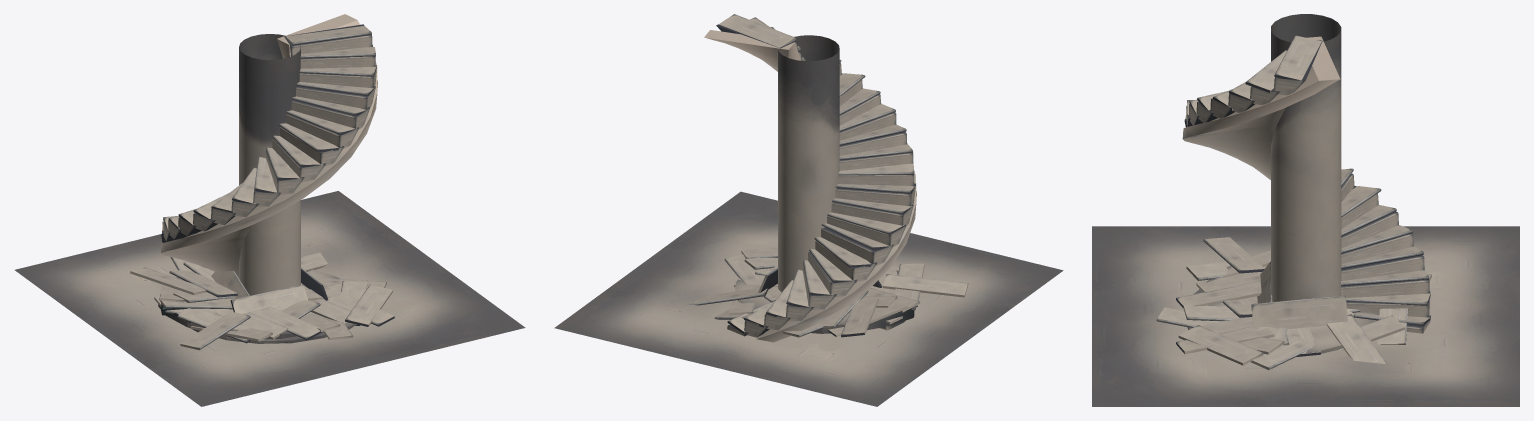
File: exitbottom.fbx
3 views of the same model, side by side, from view 1: azimuth 30°, elevation 25°; view 2: azimuth 150°, elevation 25°; view 3: azimuth 270°, elevation 25° (orthographic). The views are drawn at different scales.
Visible parts, largest first — view 1: pCube412; view 2: pCube412; view 3: pCube412.
Boxes of the visible parts, x1,y1,x2,y2 form: pCube412: (15,14,525,406); pCube412: (554,14,1063,406); pCube412: (1092,14,1519,406).
Bounding box in the file's own units: 30.16 × 23.59 × 30.16.
